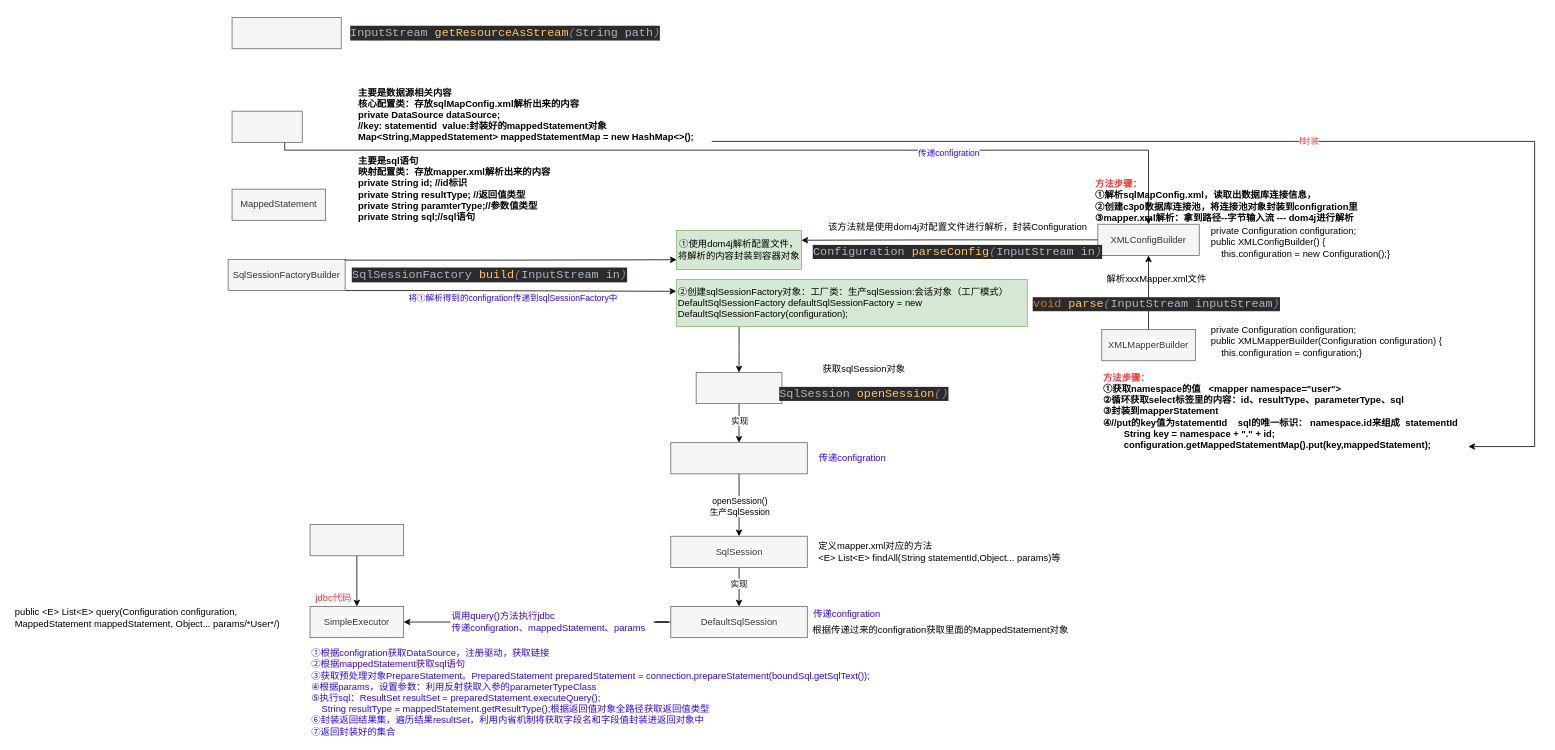
This 1555x750 diagram has some shape labels left out. The box of each missing label's shape, as (x1, y1, x2, y2) in pixels:
Configuration: (231, 110, 302, 142)
DefaultSqlSessionFactory: (670, 442, 807, 474)
Executor: (309, 524, 404, 556)
Resource: (231, 17, 341, 49)
SqlSessionFactory: (695, 372, 782, 404)
